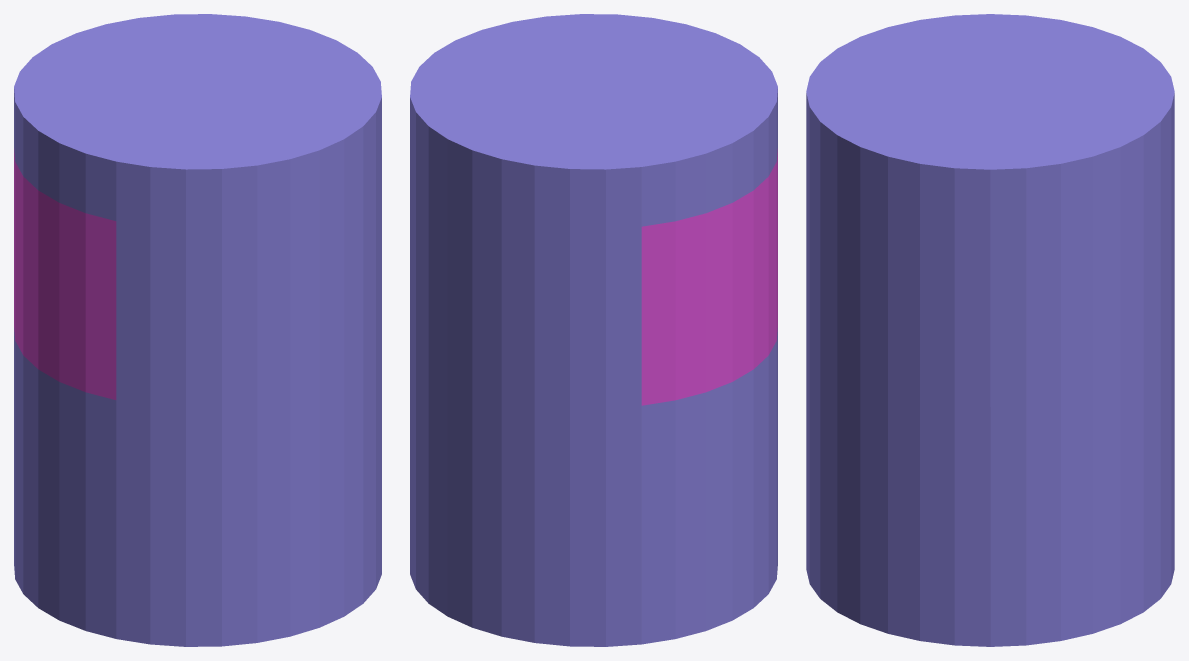
Rendered from InnerTestV2.fbx.
3 views of the same model, side by side, from view 1: azimuth 30°, elevation 25°; view 2: azimuth 150°, elevation 25°; view 3: azimuth 270°, elevation 25° (orthographic).
Parts seen in each view (by area): view 1: InnerTestInsideJoined; view 2: InnerTestInsideJoined; view 3: InnerTestInsideJoined.
Part boxes in pixels (x1=…): InnerTestInsideJoined: x1=14, y1=14, x2=381, y2=646; InnerTestInsideJoined: x1=410, y1=14, x2=777, y2=646; InnerTestInsideJoined: x1=806, y1=14, x2=1174, y2=646.
Bounding box in the file's own units: 28 × 28 × 40.
